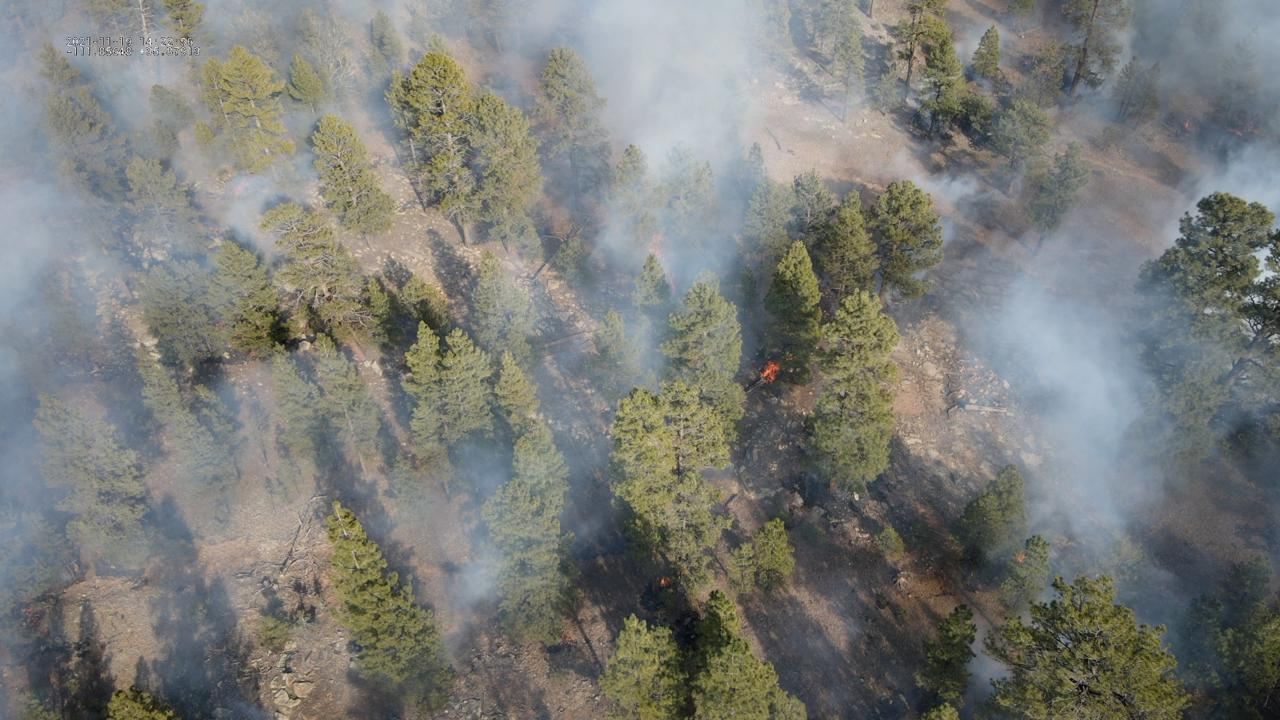fire: (647, 230, 667, 262), (760, 358, 781, 385), (21, 606, 39, 627), (231, 178, 248, 195), (657, 575, 672, 588), (1013, 550, 1027, 561), (1184, 118, 1191, 130)
smoke: (0, 0, 1280, 720)
